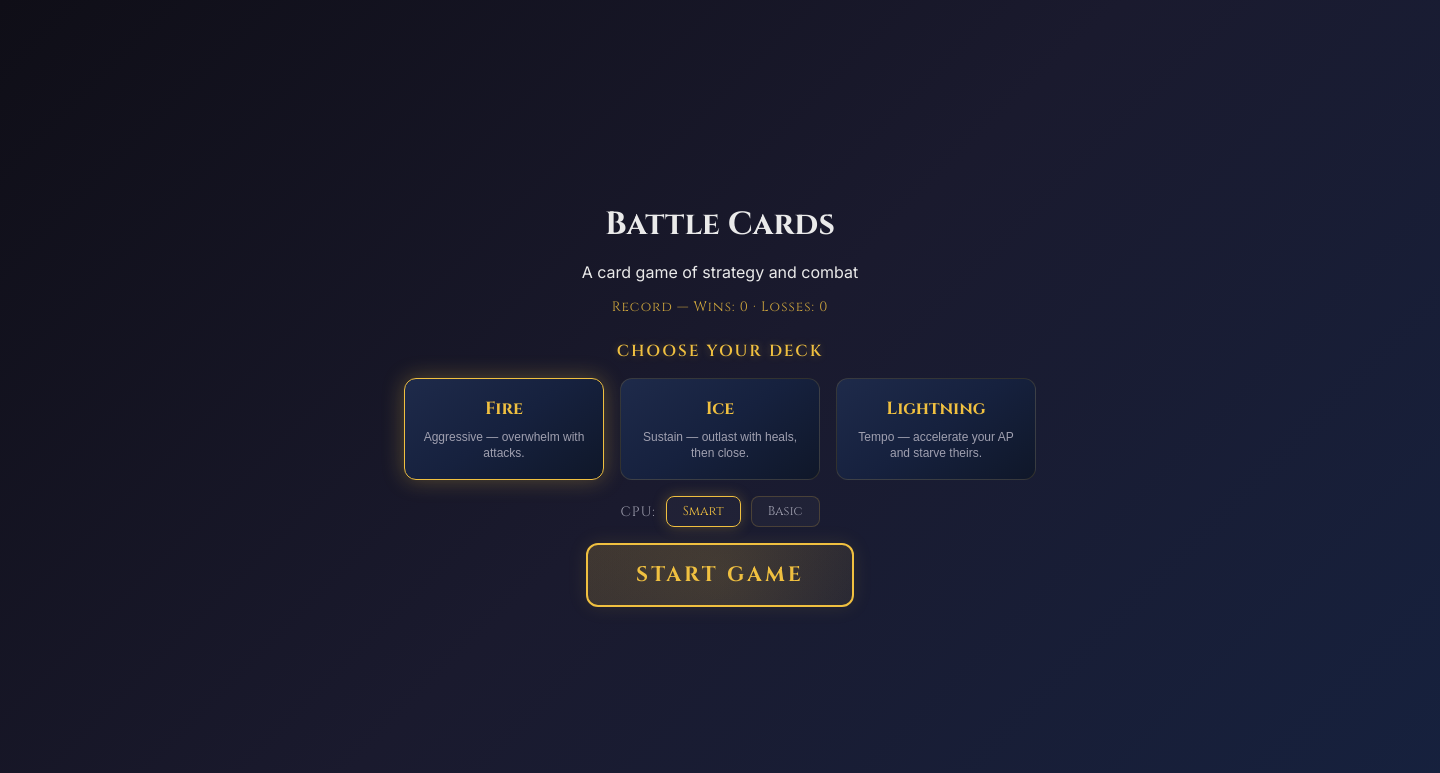
Test case: App integration — full game flow (render path) › Restart returns to the start screen mid-game
Click the button "Start Game". click: [720, 575]
box: 586,543 -> 854,607
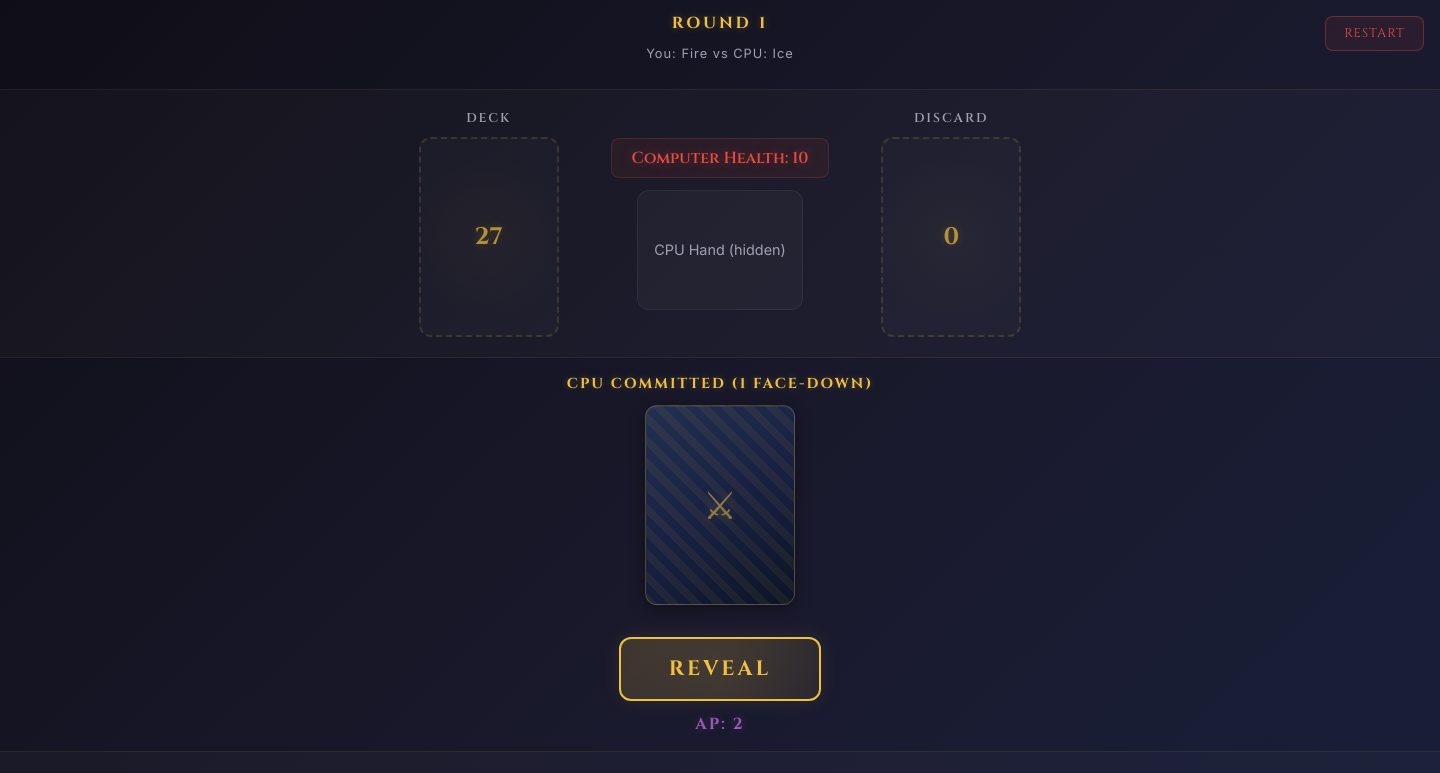
expect the text "Round 1" is shown: met, box 672,12 -> 768,34
Click the button "Restart". click: [1375, 34]
box: 1325,16 -> 1424,51
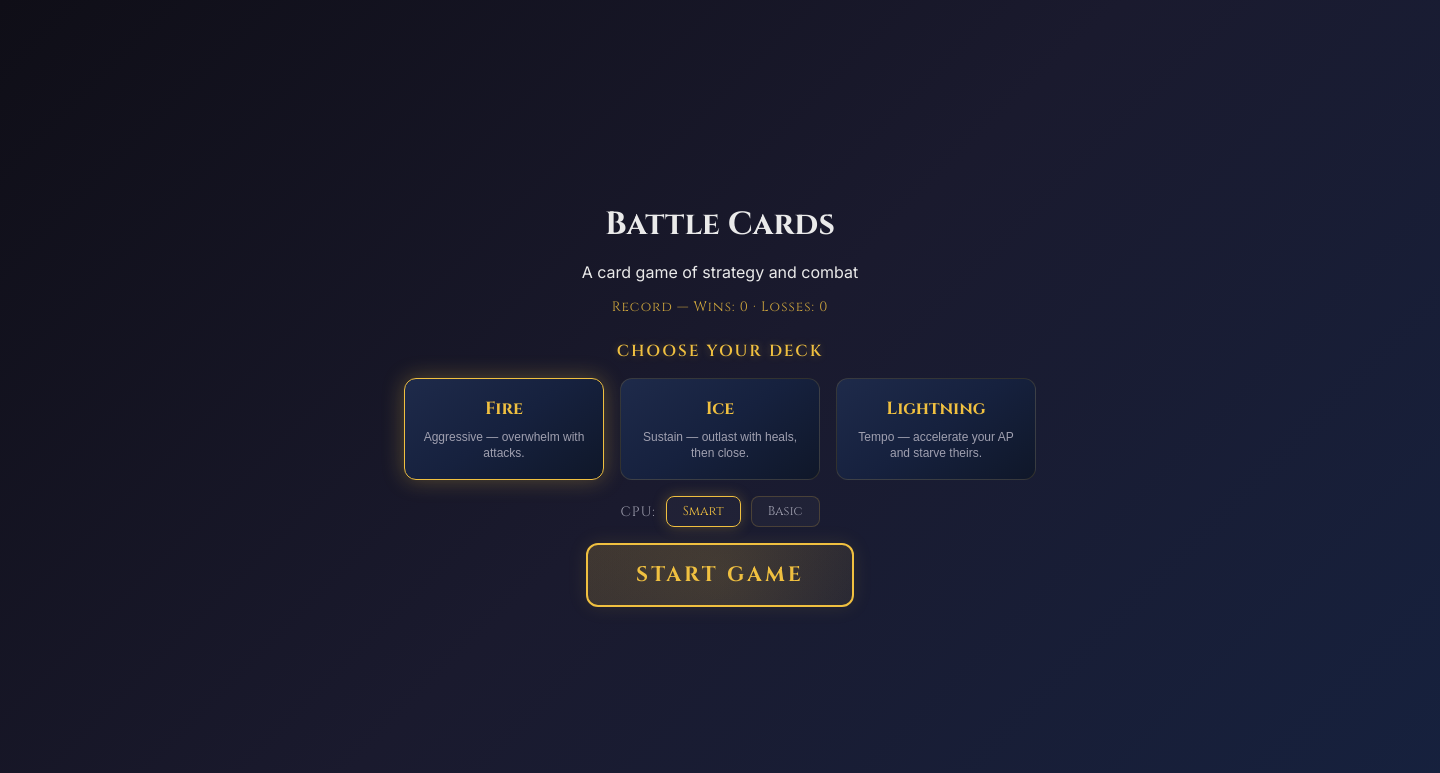
expect the button "Start Game" is shown: met, box 586,543 -> 854,607
